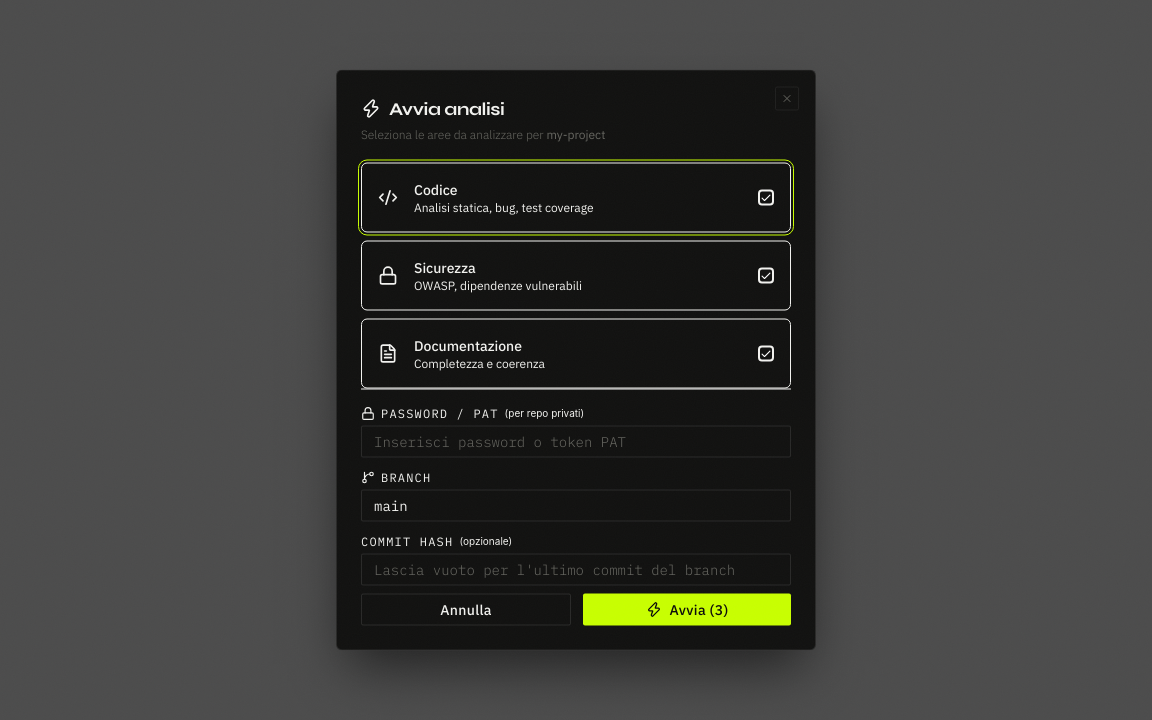
Test case: AnalysisOptionsModal › decreases area count when an area is deselected
Click the button "Codice" at (576, 198), box [361,162,791,232]
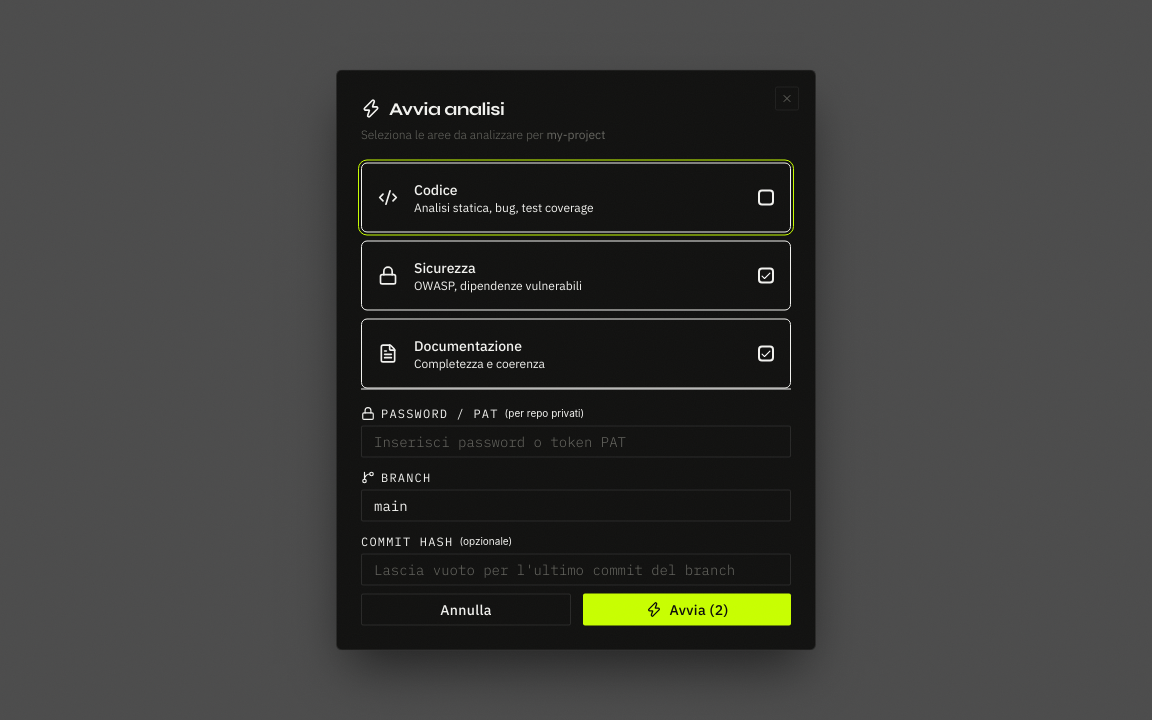
Check: the button "Avvia (2)" is shown, box [583,594,791,626]
